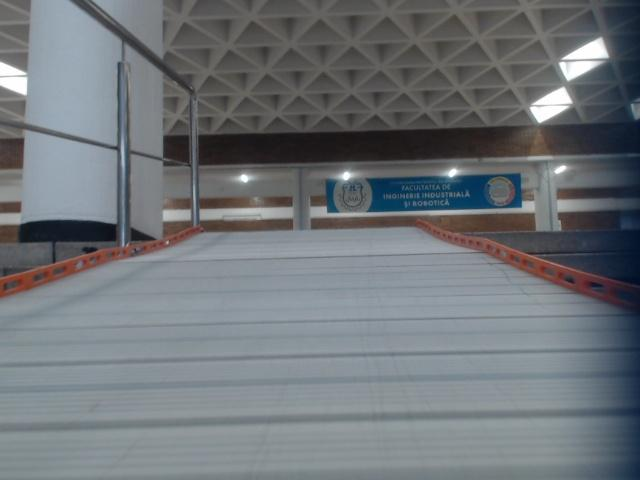rampUp: (0, 221, 639, 479)
ramps-railing: (70, 0, 199, 226), (116, 60, 181, 246), (0, 119, 102, 145)
